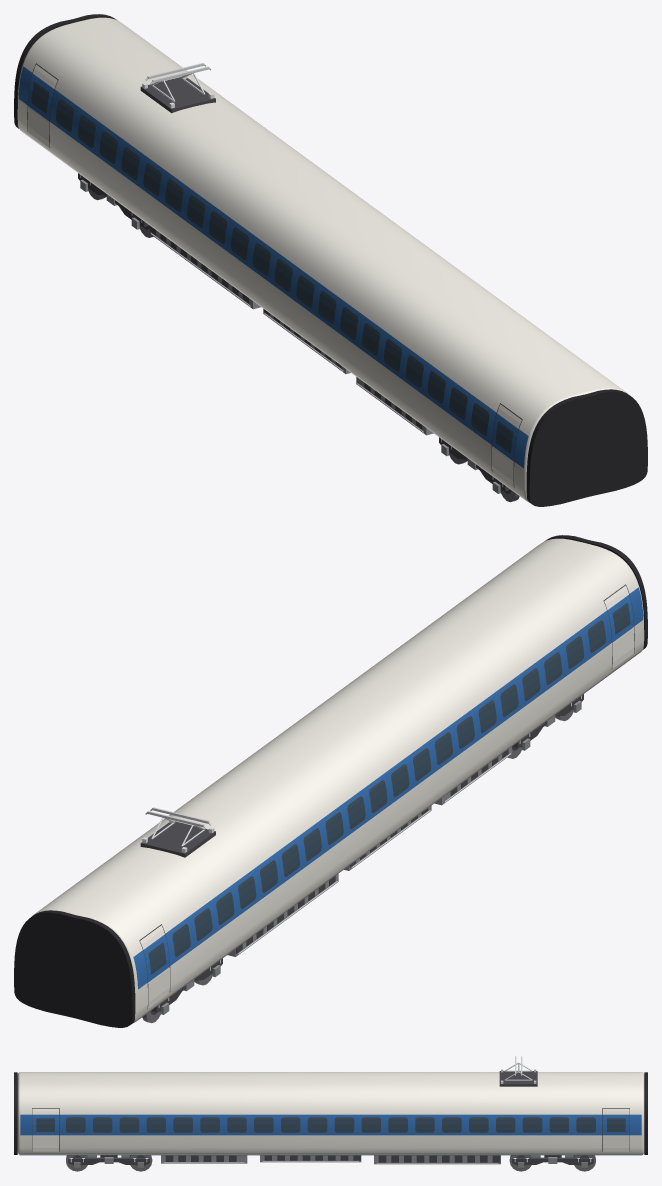
Rendered from 393_close.fbx.
The picture shows the model from 3 angles, top to bottom: view 1: azimuth 30°, elevation 25°; view 2: azimuth 150°, elevation 25°; view 3: azimuth 270°, elevation 25°; orthographic projection. The views are drawn at different scales.
Visible parts, largest first — view 1: 393_close; view 2: 393_close; view 3: 393_close.
Part boxes in pixels (box(x1,y1,x2,y2)): 393_close: box(14, 14, 647, 506); 393_close: box(14, 535, 647, 1027); 393_close: box(14, 1056, 647, 1171).
Size of the model in its own units: 3.38 by 4.25 by 25.
